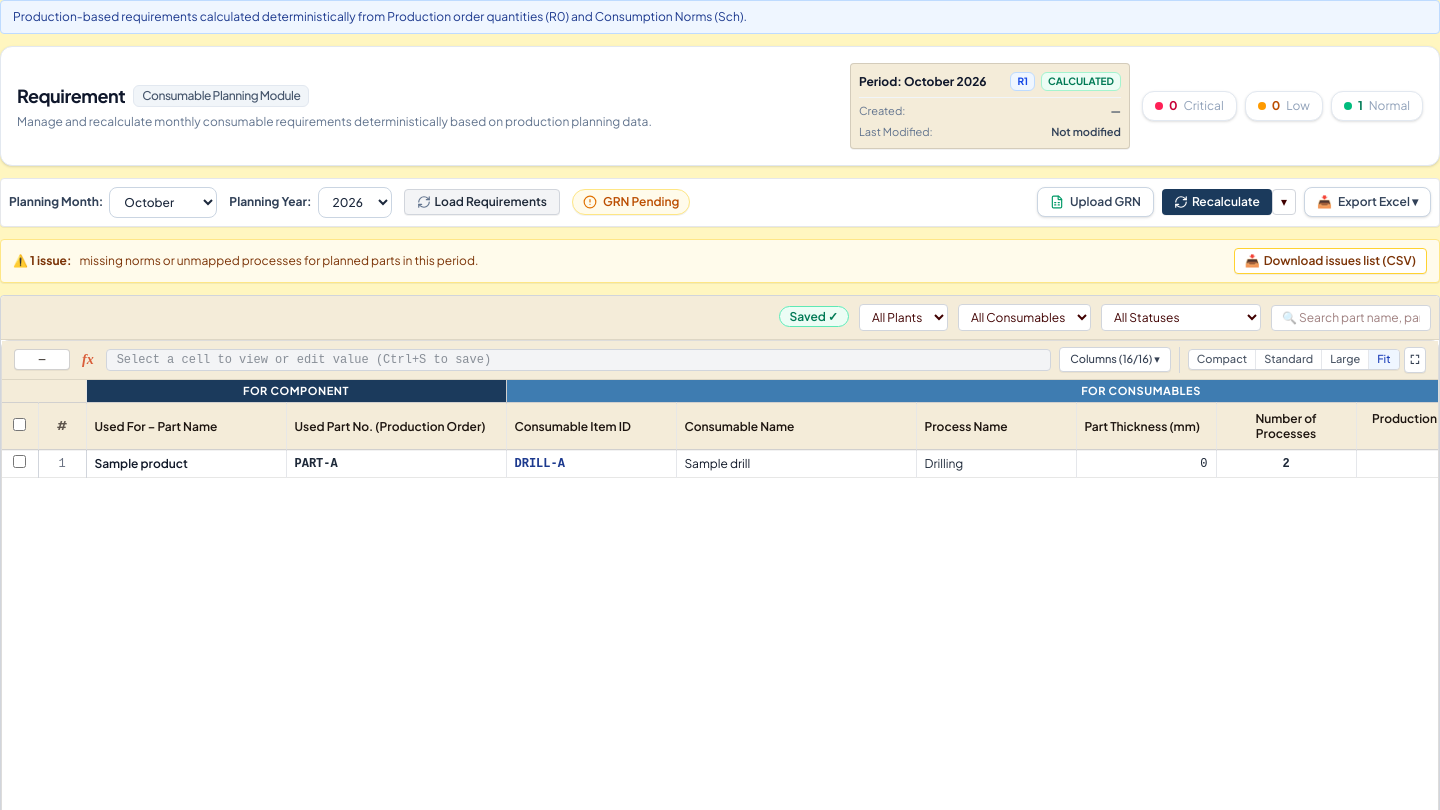
Test: compact MRP loads one workspace with issues and no central review panel; recalculation uses the reviewer date without approval
Expected: the cell "DRILL-A" is shown, [506, 450, 676, 478]
Expected: the text "⚠️ 1 issue:" is shown, [13, 253, 72, 269]
Click the button "Recalculate".
click(1217, 202)  # box [1162, 189, 1272, 215]
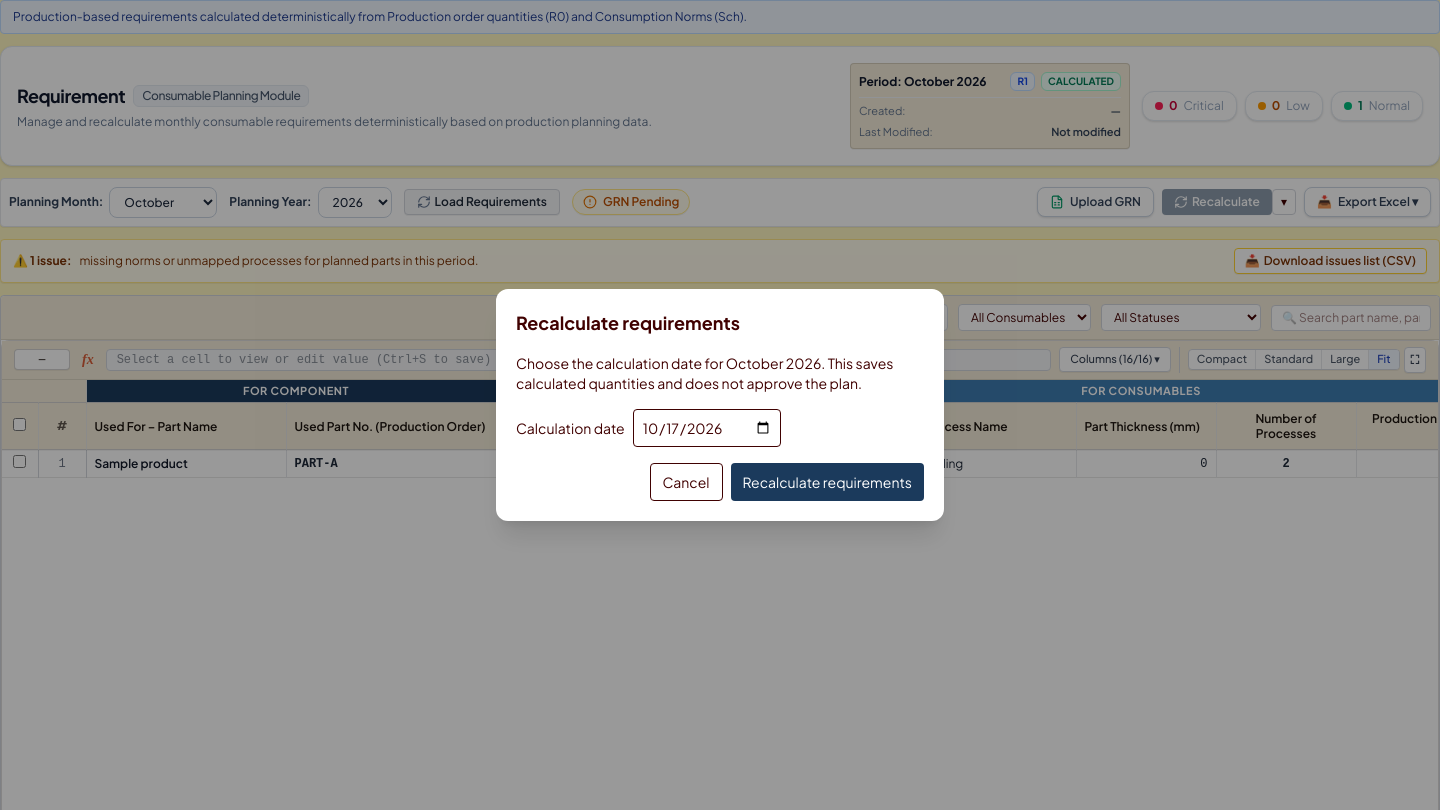
Type "2026-10-18" into the date field labelled "Calculation date".
click(707, 428); type("2026-10-18")  # box [633, 409, 781, 447]
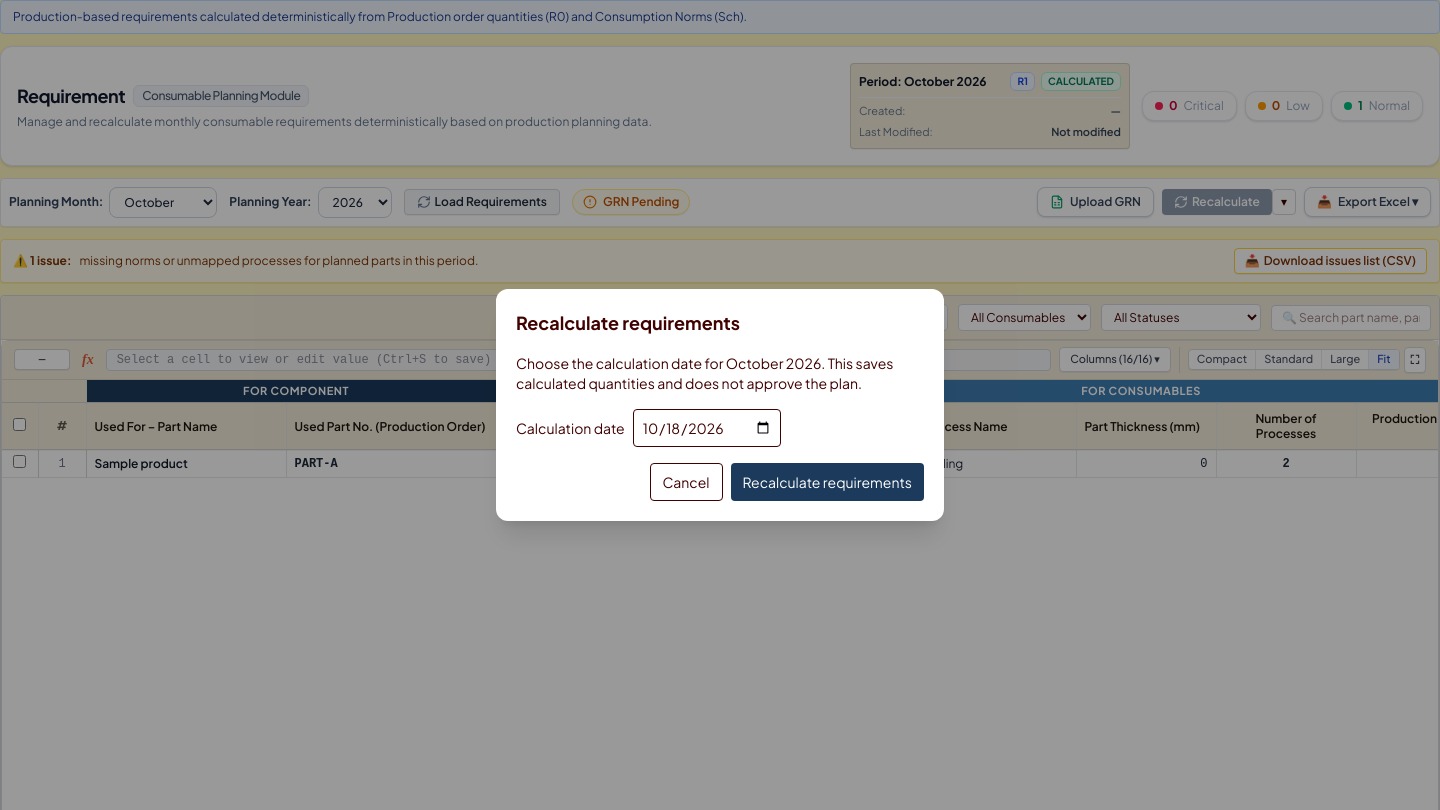
Click the button "Recalculate requirements".
click(827, 482)  # box [731, 463, 924, 501]
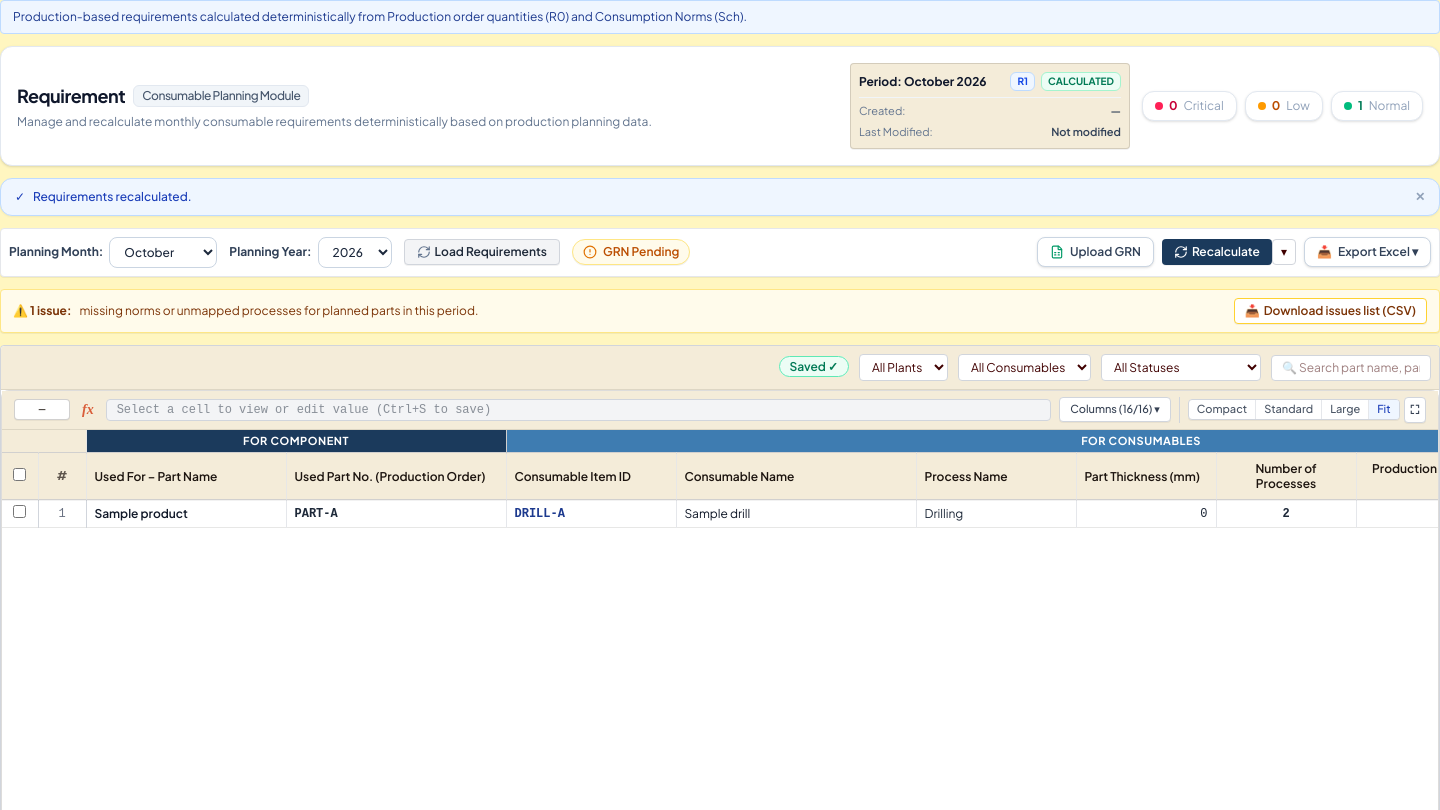
Expected: the cell "DRILL-A" is shown, [506, 500, 676, 528]
Expected: the text "Requirements recalculated." is shown, [33, 189, 192, 205]
